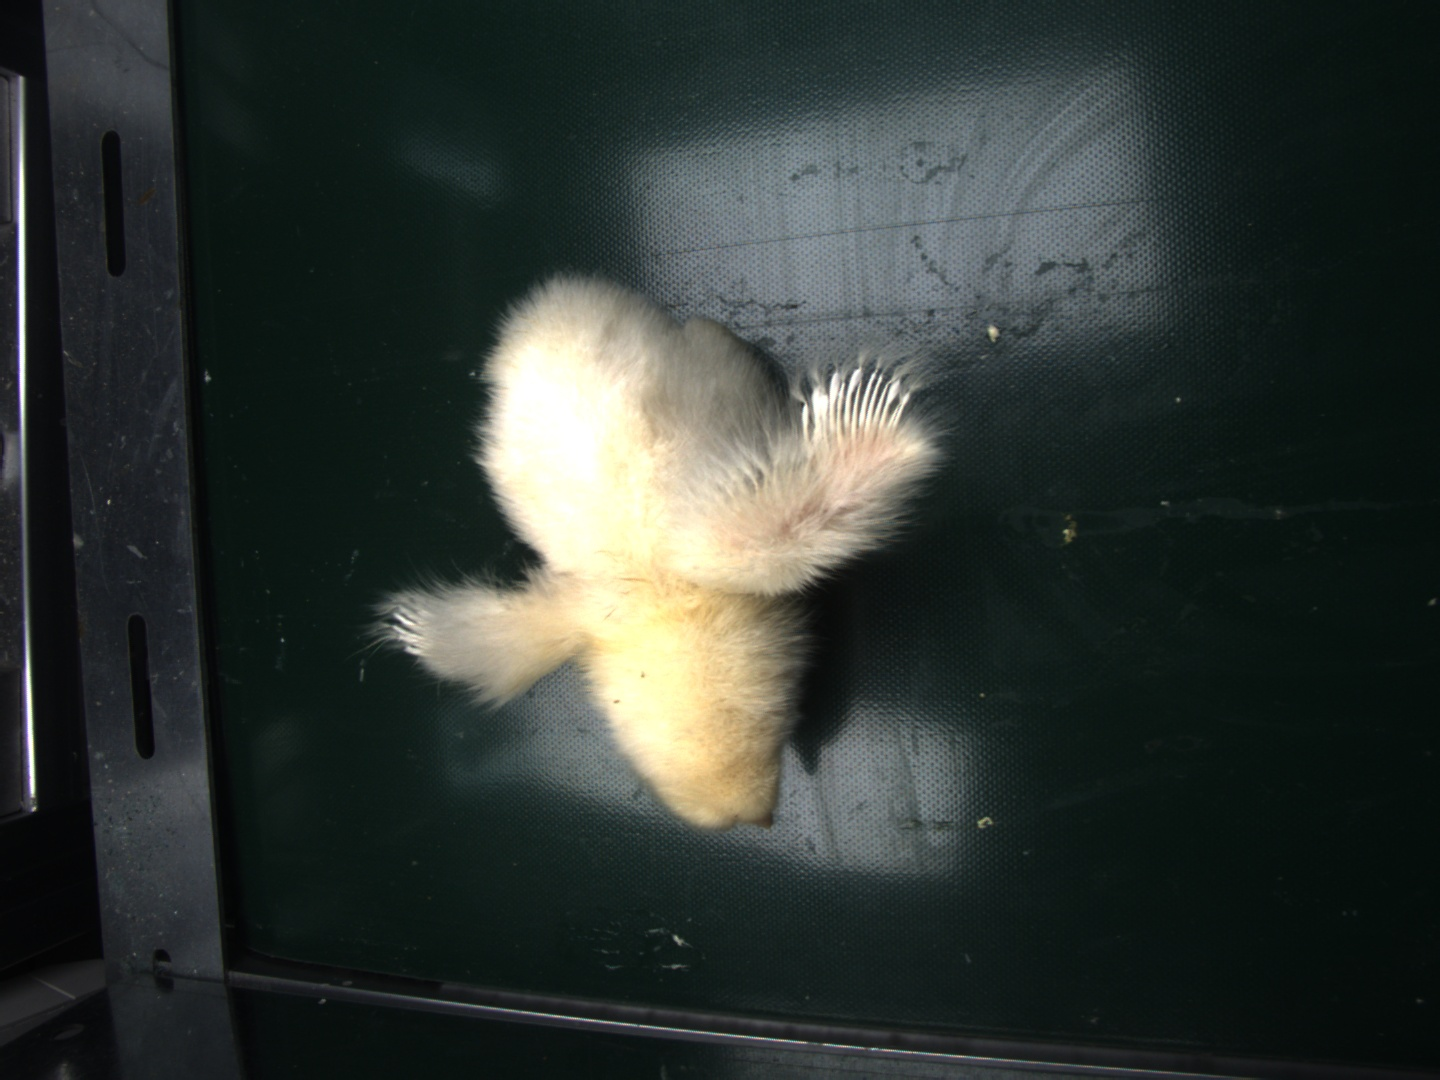male: (804, 368, 914, 439)
